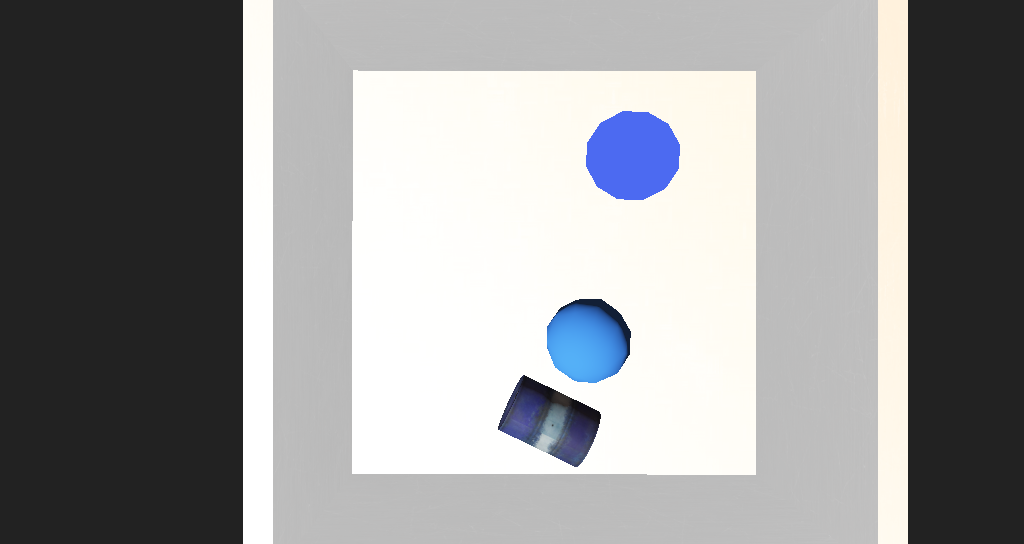cone: (458, 322, 539, 375)
cylinder: (519, 184, 600, 246)
sphere: (502, 284, 563, 327)
